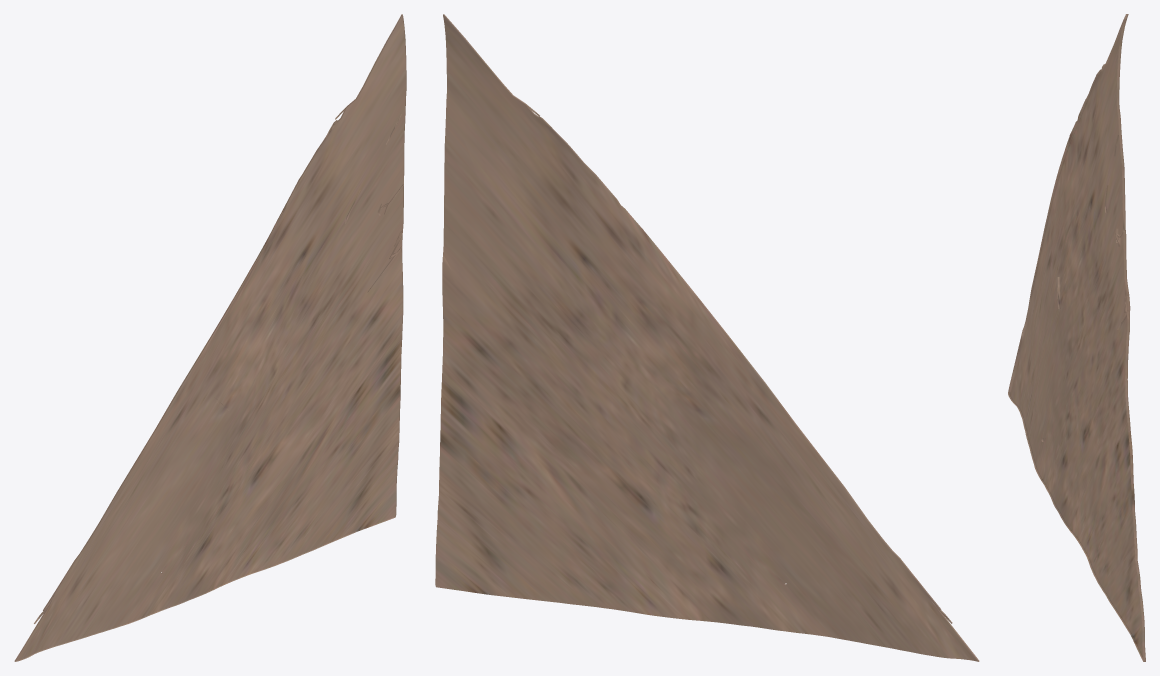
The picture shows the model from 3 angles, left to right: view 1: azimuth 30°, elevation 25°; view 2: azimuth 150°, elevation 25°; view 3: azimuth 270°, elevation 25°; orthographic projection. The views are drawn at different scales.
Bounding box in the file's own units: 21.9 × 24.49 × 4.72.
1 material, 1 textured.
